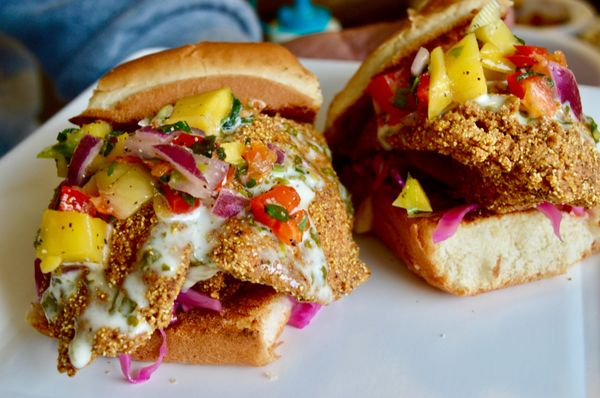soup: (29, 41, 369, 375), (324, 0, 600, 297)
